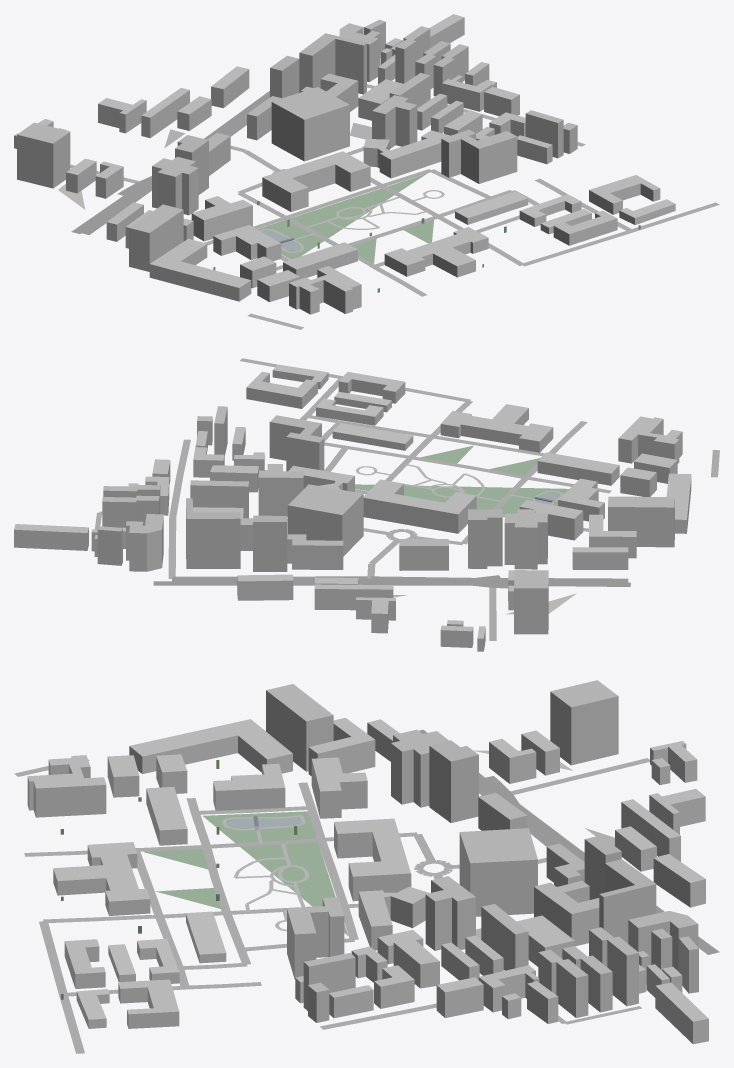
3 views of the same model, one above another, from view 1: azimuth 30°, elevation 25°; view 2: azimuth 150°, elevation 25°; view 3: azimuth 270°, elevation 25° (orthographic). The views are drawn at different scales.
Bounding box in the file's own units: 592 × 54.27 × 545.
